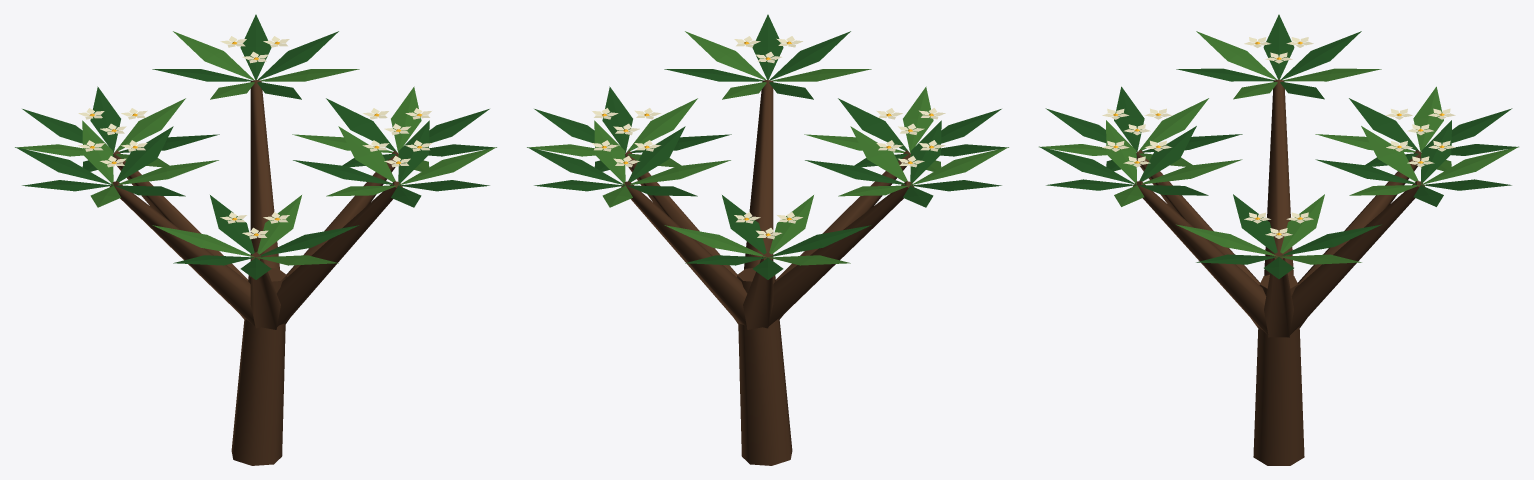
The model's file is frangipani_tree.glb.
3 renders of one model, left to right at view 1: azimuth 30°, elevation 25°; view 2: azimuth 150°, elevation 25°; view 3: azimuth 270°, elevation 25°, orthographic.
Parts seen in each view (by area): view 1: trunk, leaf, leaf.001, trim; view 2: trunk, leaf, leaf.001, trim; view 3: trunk, leaf, leaf.001, trim.
Boxes of the visible parts, x1,y1,x2,y2 form: trunk: [110, 80, 402, 465]; leaf: [15, 14, 496, 279]; leaf.001: [15, 31, 496, 265]; trim: [78, 36, 431, 239]; trunk: [621, 80, 913, 465]; leaf: [527, 14, 1008, 279]; leaf.001: [527, 31, 1008, 265]; trim: [592, 36, 945, 239]; trunk: [1133, 79, 1424, 465]; leaf: [1039, 14, 1518, 278]; leaf.001: [1039, 31, 1518, 264]; trim: [1102, 37, 1455, 238].
Bounding box in the file's own units: 3.3 × 2.29 × 2.94.
